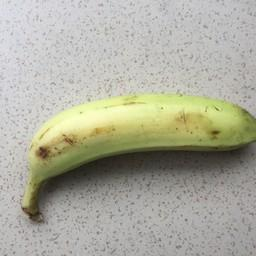Banana Ripe: (0, 86, 256, 214)
